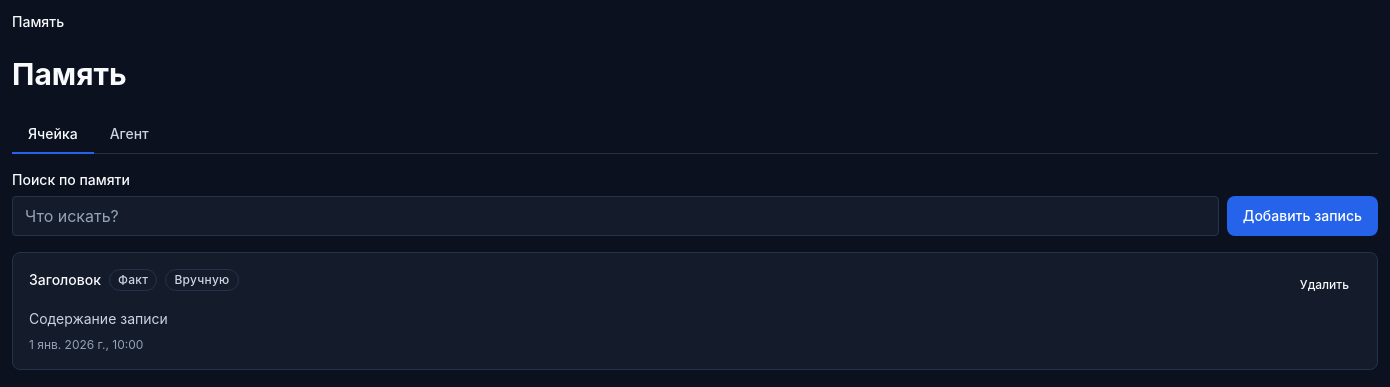
Test: MemoryPanelPage › shows a placeholder on the Агент tab when the cell has no agents
Check: the text "Содержание записи" is shown, box [29,310,168,327]
Click the tab "Агент" at [129, 135], box [94,116,165,154]
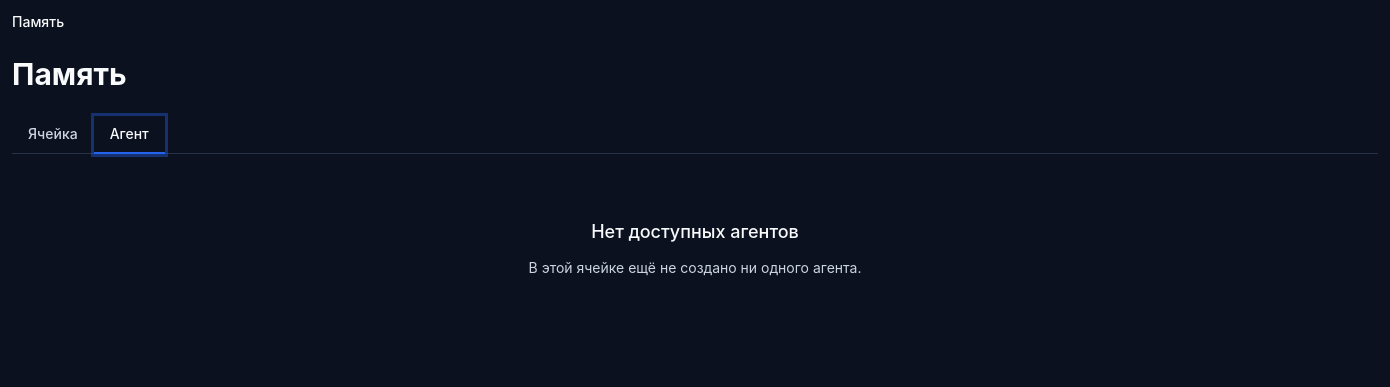
Check: the heading "Нет доступных агентов" is shown, box [591,218,799,246]
